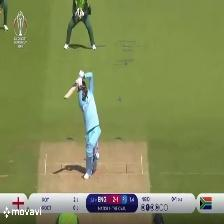batsman: (54, 67, 112, 183)
